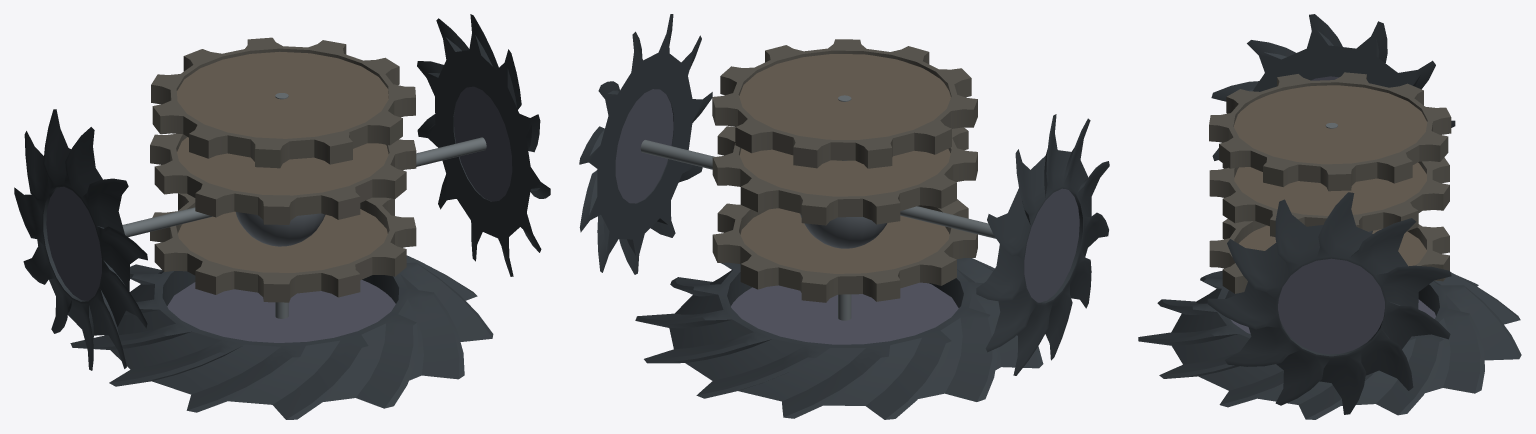
The picture shows the model from 3 angles, left to right: view 1: azimuth 30°, elevation 25°; view 2: azimuth 150°, elevation 25°; view 3: azimuth 270°, elevation 25°; orthographic projection. The views are drawn at different scales.
Parts seen in each view (by area): view 1: Gear1, pCylinder8, Gear2, Gear6, Gear3, Gear5, pCylinder1, Gear4, pCylinder6, pCylinder3, pCylinder4, pCylinder5 (+2 smaller); view 2: Gear1, pCylinder8, Gear2, Gear6, Gear3, pCylinder1, Gear5, Gear4, pCylinder6, pCylinder3, pCylinder4, pCylinder5 (+2 smaller); view 3: Gear6, Gear1, pCylinder8, Gear3, pCylinder5, Gear2, Gear4, pCylinder3, Gear5, pCylinder6.
Boxes of the visible parts, box(x1,y1,x2,y2) form: Gear1: box(70, 255, 493, 419); pCylinder8: box(177, 51, 388, 138); Gear2: box(14, 109, 147, 370); Gear6: box(417, 14, 550, 276); Gear3: box(151, 37, 415, 168); Gear5: box(150, 193, 416, 302); pCylinder1: box(167, 280, 395, 342); Gear4: box(150, 133, 416, 224); pCylinder6: box(178, 209, 387, 272); pCylinder3: box(177, 137, 388, 195); pCylinder4: box(46, 186, 101, 300); pCylinder5: box(454, 86, 512, 201); Gear1: box(635, 258, 1043, 419); pCylinder8: box(739, 54, 950, 139); Gear2: box(976, 114, 1109, 375); Gear6: box(579, 14, 712, 274); Gear3: box(712, 39, 977, 168); pCylinder1: box(731, 282, 958, 344); Gear5: box(712, 199, 977, 302); Gear4: box(712, 126, 977, 225); pCylinder6: box(740, 208, 949, 273); pCylinder3: box(739, 148, 950, 196); pCylinder4: box(1024, 188, 1079, 302); pCylinder5: box(615, 89, 673, 203); Gear6: box(1207, 192, 1451, 414); Gear1: box(1138, 270, 1521, 419); pCylinder8: box(1234, 85, 1427, 164); Gear3: box(1209, 72, 1451, 191); pCylinder5: box(1278, 258, 1384, 354); Gear2: box(1211, 14, 1455, 160); Gear4: box(1209, 157, 1449, 236); pCylinder3: box(1234, 162, 1426, 215); Gear5: box(1209, 219, 1449, 293); pCylinder6: box(1239, 225, 1426, 266).
Bounding box in the file's own units: 10.26 × 6.04 × 8.9.
